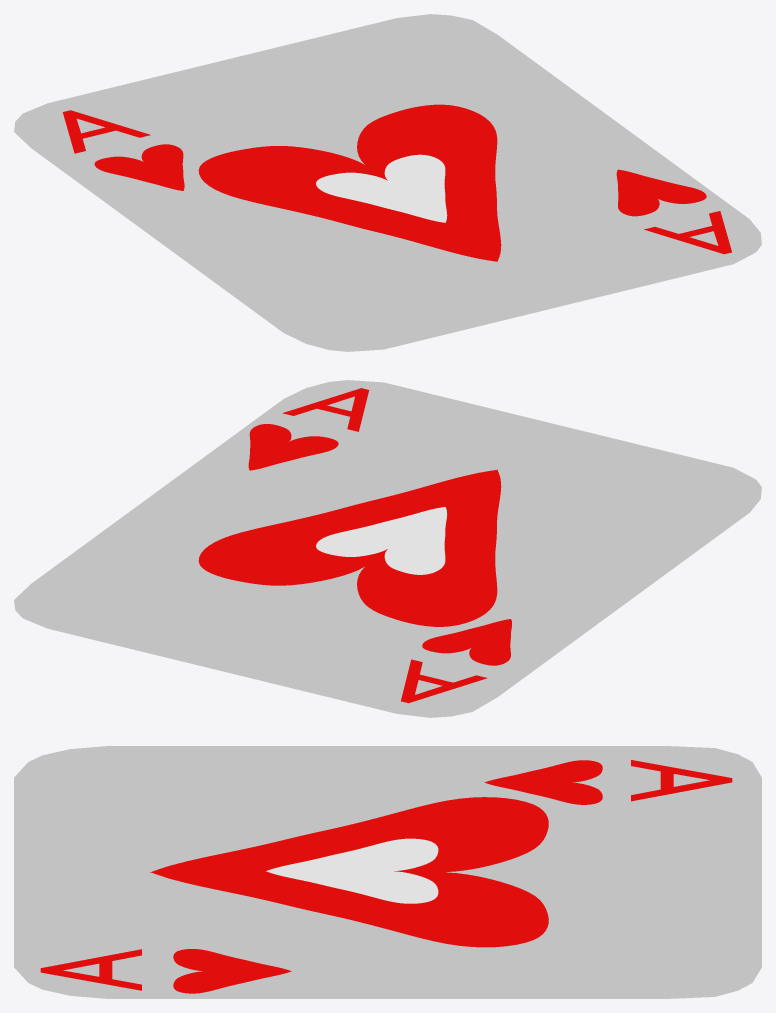
The picture shows the model from 3 angles, top to bottom: view 1: azimuth 30°, elevation 25°; view 2: azimuth 150°, elevation 25°; view 3: azimuth 270°, elevation 25°; orthographic projection. The views are drawn at different scales.
Parts seen in each view (by area): view 1: AceofHearts, Plane.075_Red.002, Plane.074_White.002, Plane.066_Red.003, Plane.065_Red.003, Font_Black_Black.003, Font.001_Bla_Blac.002; view 2: AceofHearts, Plane.075_Red.002, Plane.074_White.002, Plane.066_Red.003, Plane.065_Red.003, Font.001_Bla_Blac.002, Font_Black_Black.003; view 3: AceofHearts, Plane.075_Red.002, Plane.074_White.002, Plane.065_Red.003, Plane.066_Red.003, Font.001_Bla_Blac.002, Font_Black_Black.003.
Part boxes in pixels (x1,y1,x2,y2): AceofHearts: (14, 14, 761, 351); Plane.075_Red.002: (198, 104, 501, 261); Plane.074_White.002: (316, 154, 447, 222); Plane.066_Red.003: (94, 144, 184, 190); Plane.065_Red.003: (616, 169, 706, 216); Font_Black_Black.003: (63, 110, 150, 153); Font.001_Bla_Blac.002: (644, 211, 731, 254); AceofHearts: (14, 380, 761, 717); Plane.075_Red.002: (198, 469, 501, 626); Plane.074_White.002: (316, 507, 447, 574); Plane.066_Red.003: (422, 619, 511, 665); Plane.065_Red.003: (248, 424, 338, 470); Font.001_Bla_Blac.002: (282, 388, 369, 431); Font_Black_Black.003: (401, 659, 487, 703); AceofHearts: (14, 746, 761, 998); Plane.075_Red.002: (150, 797, 548, 947); Plane.074_White.002: (266, 838, 438, 903); Plane.065_Red.003: (173, 949, 291, 993); Plane.066_Red.003: (484, 760, 602, 804); Font.001_Bla_Blac.002: (40, 949, 141, 990); Font_Black_Black.003: (631, 760, 732, 801).
Bounding box in the file's own units: 1.6 × 0.00374 × 2.
